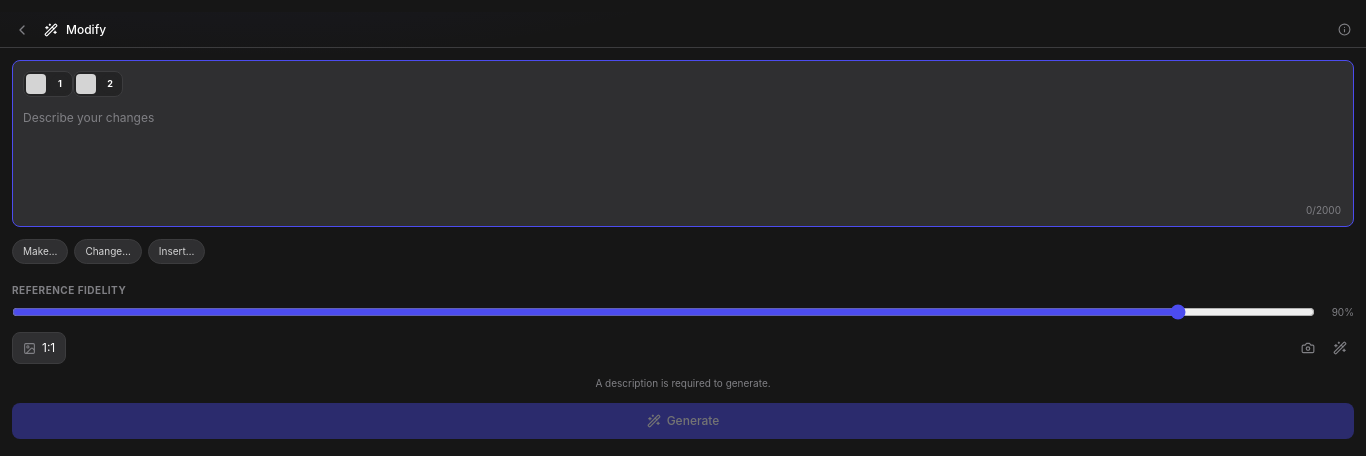
Scenario: GenerationModifyMode — US1 behavior (T008) › offers @-mentions from the connected references only (US1/AC3)
Type "repaint @" into the text box with placeholder "Describe your changes" at (683, 160), box x1=13 y1=100 x2=1353 y2=220
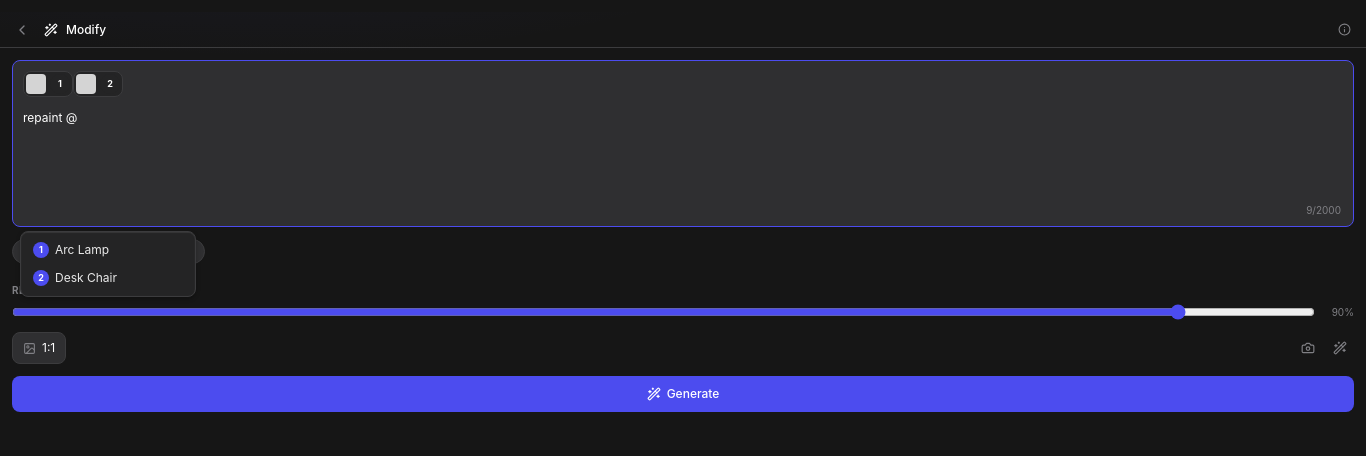
Click the option "2 Desk Chair" at (108, 278), box x1=25 y1=264 x2=191 y2=292
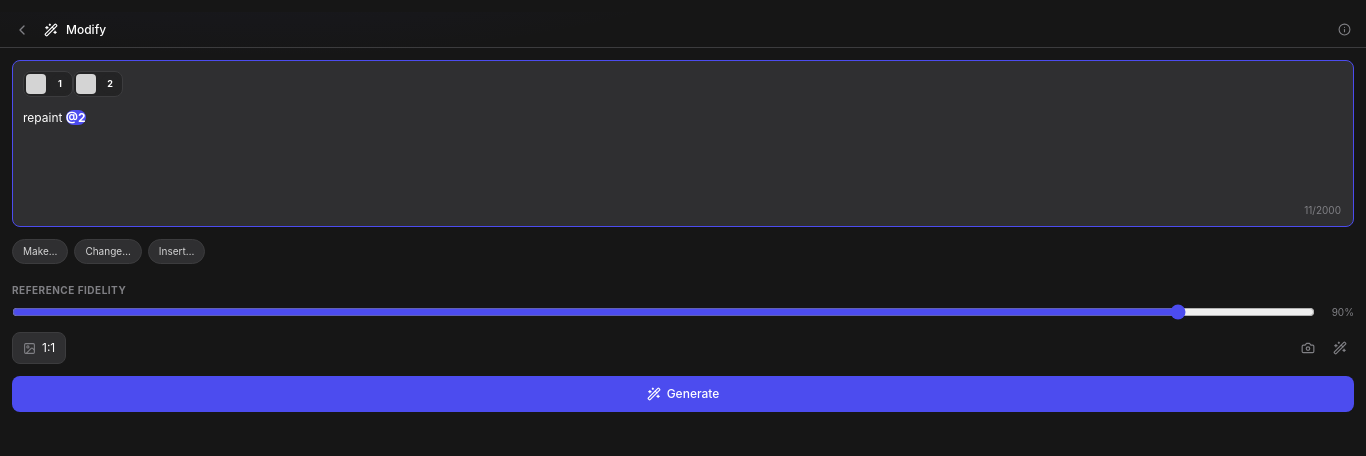
Expected: the text box with placeholder "Describe your changes" holds "repaint @2 ", x1=13 y1=100 x2=1353 y2=220
